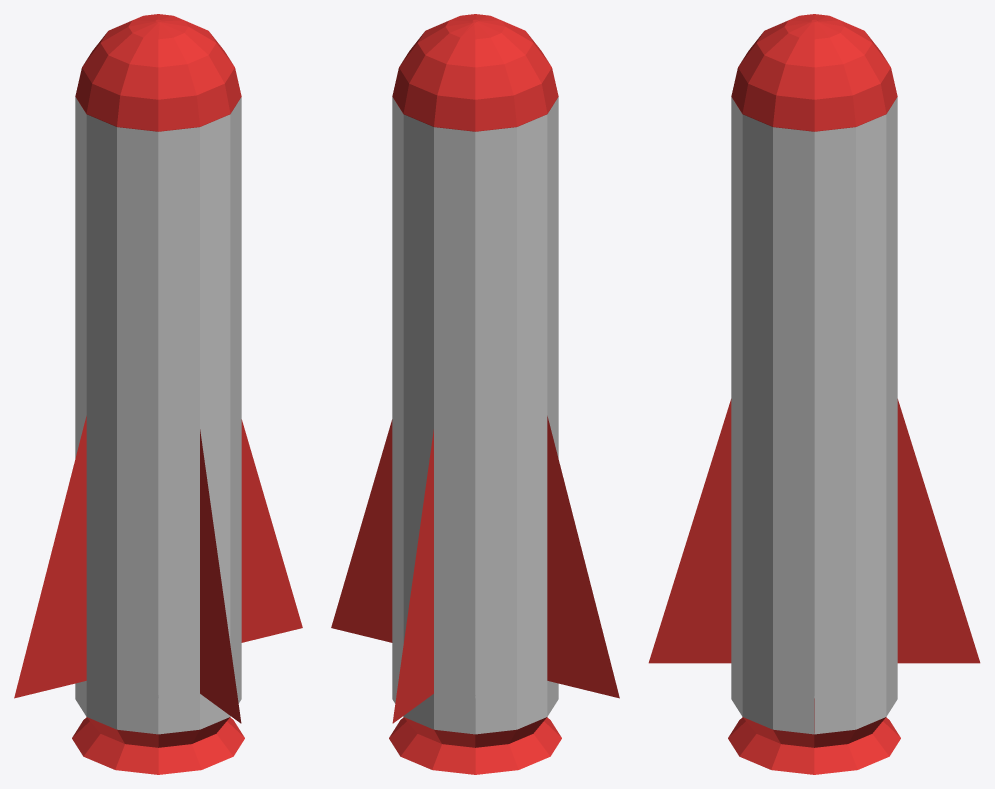
File: missle.fbx
3 views of the same model, side by side, from view 1: azimuth 30°, elevation 25°; view 2: azimuth 150°, elevation 25°; view 3: azimuth 270°, elevation 25° (orthographic).
Parts seen in each view (by area): view 1: Cylinder; view 2: Cylinder; view 3: Cylinder.
Boxes of the visible parts, x1,y1,x2,y2 form: Cylinder: (14,14,302,774); Cylinder: (331,14,619,774); Cylinder: (648,14,980,774).
Size of the model in its own units: 401 by 952 by 399.
